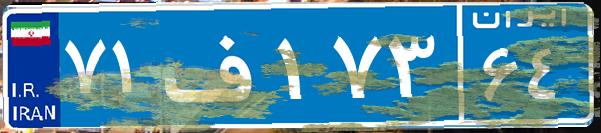1: (273, 28, 330, 110), (110, 28, 158, 105)
3: (385, 28, 445, 110)
4: (525, 38, 570, 115)
6: (475, 38, 525, 113)
7: (330, 28, 385, 110), (57, 26, 110, 107)
ف: (158, 15, 273, 115)
